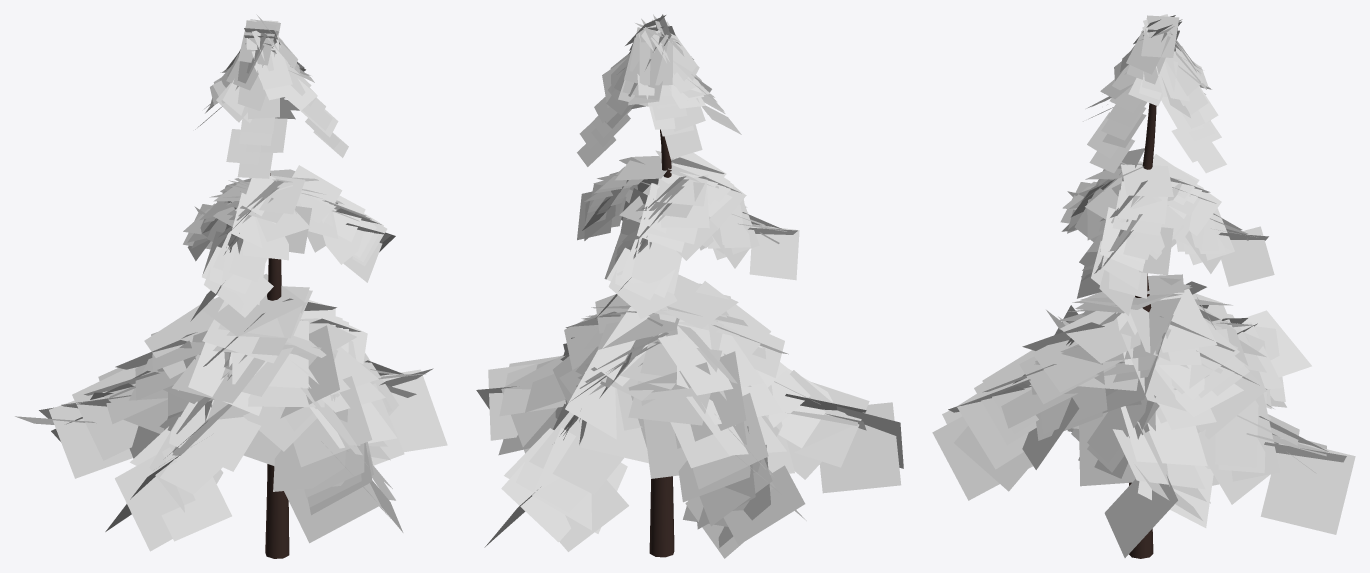
File: SpruceTreeSmall2.fbx
3 views of the same model, side by side, from view 1: azimuth 30°, elevation 25°; view 2: azimuth 150°, elevation 25°; view 3: azimuth 270°, elevation 25° (orthographic). The views are drawn at different scales.
Visible parts, largest first — view 1: SpruceTreeSmall2; view 2: SpruceTreeSmall2; view 3: SpruceTreeSmall2.
Boxes of the visible parts, box(x1,y1,x2,y2) form: SpruceTreeSmall2: box(15, 14, 447, 558); SpruceTreeSmall2: box(476, 14, 903, 558); SpruceTreeSmall2: box(932, 14, 1355, 558).
Bounding box in the file's own units: 988 × 1361 × 976.
